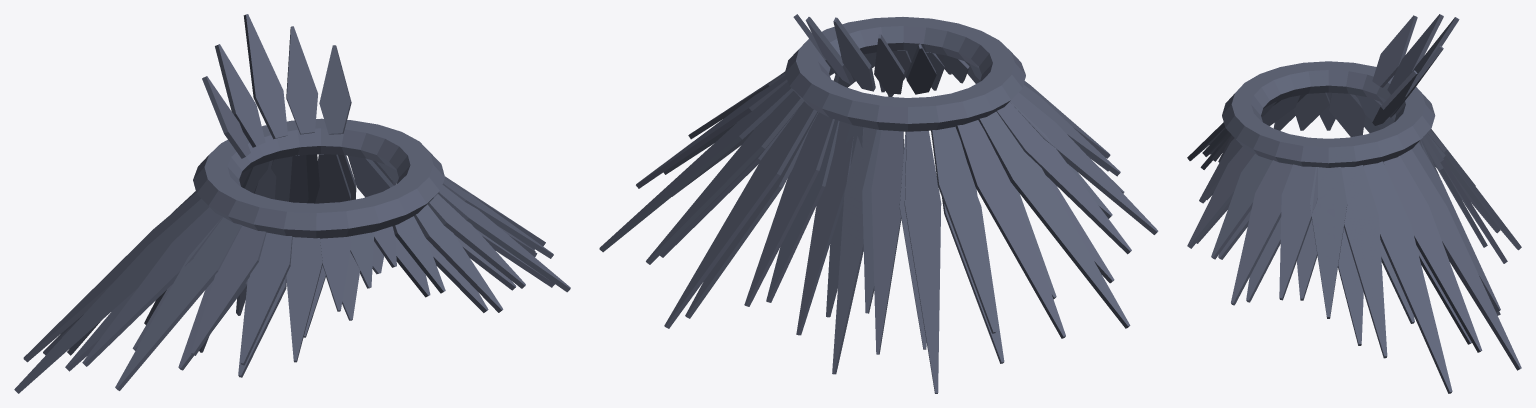
The model's file is RavenMantle.fbx.
3 views of the same model, side by side, from view 1: azimuth 30°, elevation 25°; view 2: azimuth 150°, elevation 25°; view 3: azimuth 270°, elevation 25° (orthographic). The views are drawn at different scales.
Parts seen in each view (by area): view 1: RavenMantle; view 2: RavenMantle; view 3: RavenMantle.
Part boxes in pixels (bbox=[...]): RavenMantle: bbox=[14, 14, 570, 393]; RavenMantle: bbox=[599, 14, 1158, 393]; RavenMantle: bbox=[1187, 14, 1521, 393].
Size of the model in its own units: 56.42 by 36.3 by 35.76.
